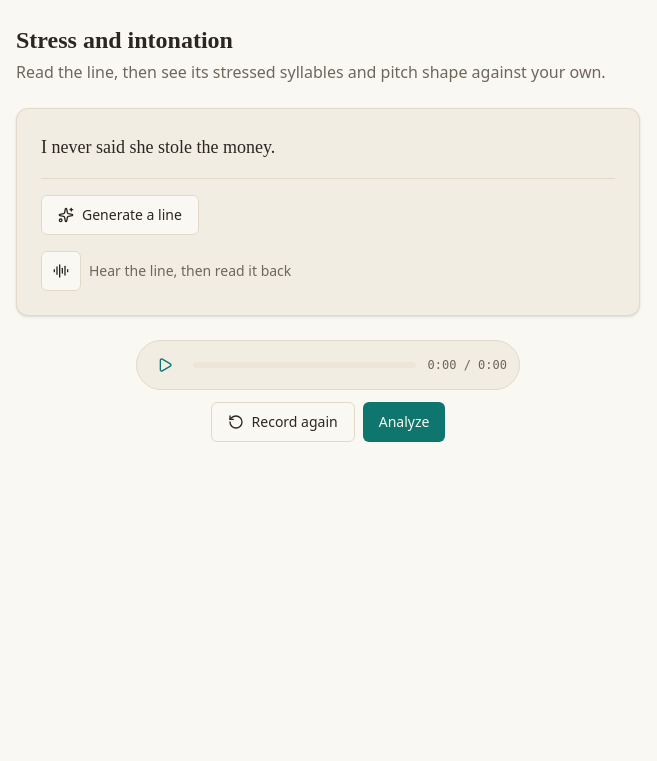
StressIntonation › should show the rhythm and intonation match scores after analyzing
Click the button "Analyze" at {"x": 404, "y": 422}, box top-left (363, 402), bottom-right (445, 442)
(page scrolled)
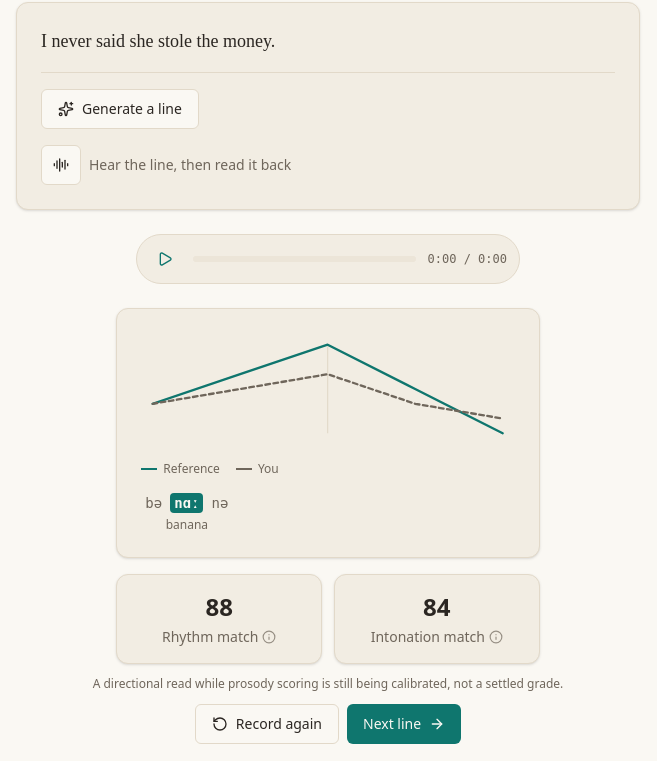
Check: the text "Rhythm match" is shown, box top-left (162, 627), bottom-right (276, 647)
Check: the text "88" is shown, box top-left (205, 591), bottom-right (233, 623)
Check: the text "84" is shown, box top-left (423, 591), bottom-right (451, 623)
